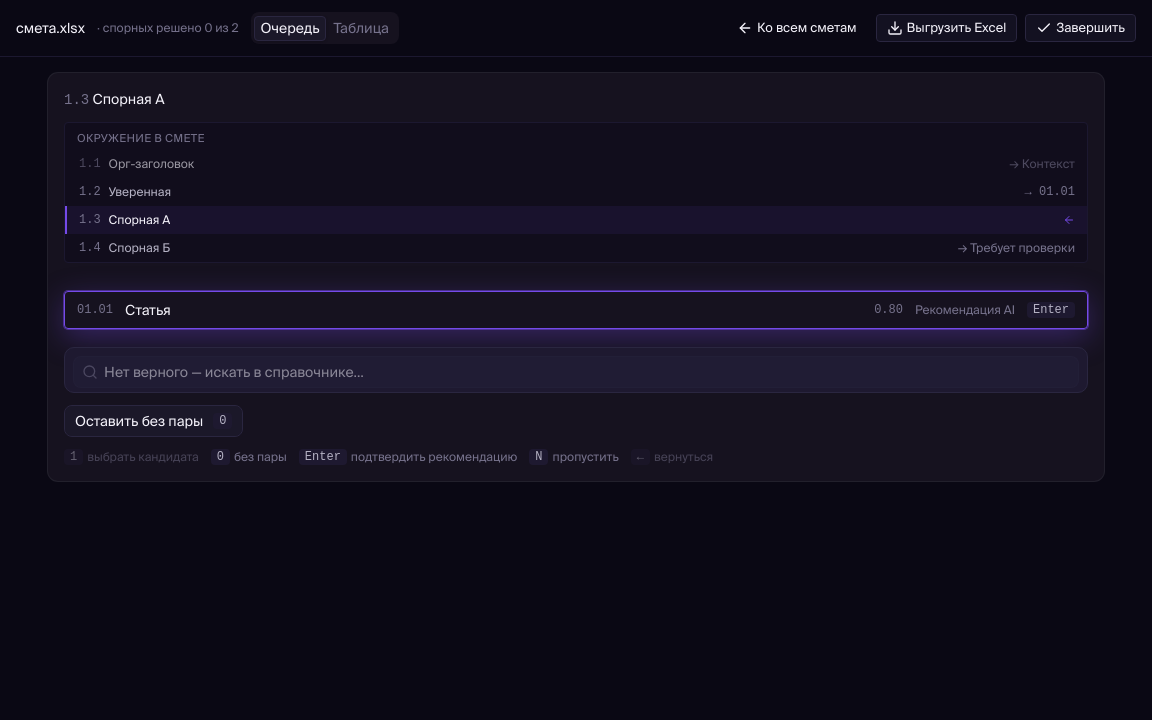
Test case: сброс состояния карточки между строками › поиск не переживает переход к следующей строке
Type "штукатурка" into the dropdown with placeholder "Нет верного — искать в справочнике…".
click(588, 372); type("штукатурка")  # box [98, 362, 1078, 382]
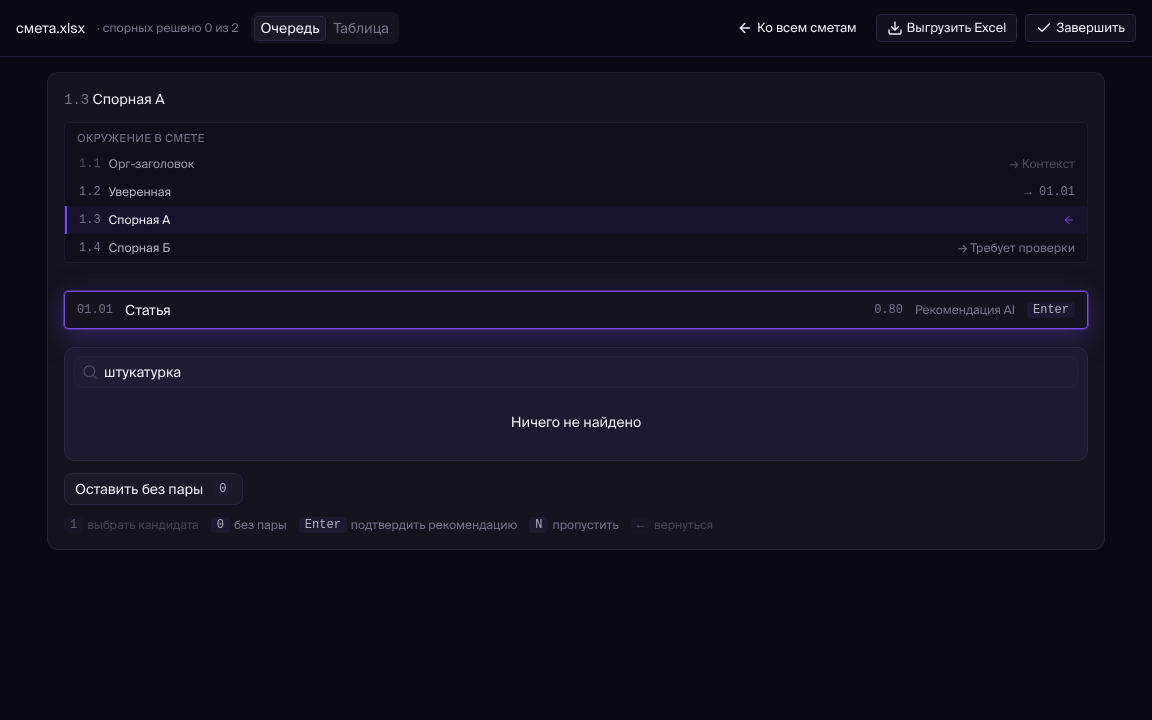
Click the button "Оставить без пары 0".
click(154, 489)  # box [64, 473, 244, 505]
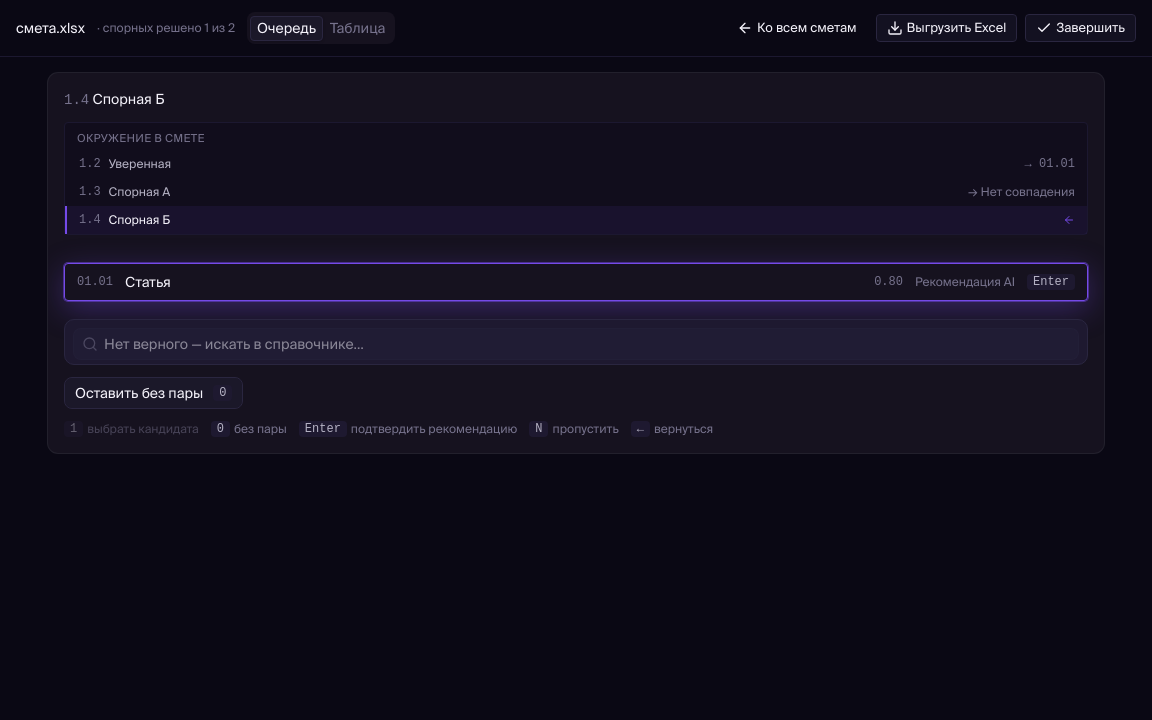
Expected: the 1st text "Спорная Б" is shown, [92, 91, 164, 107]
Expected: the dropdown with placeholder "Нет верного — искать в справочнике…" is empty, [98, 334, 1078, 354]
